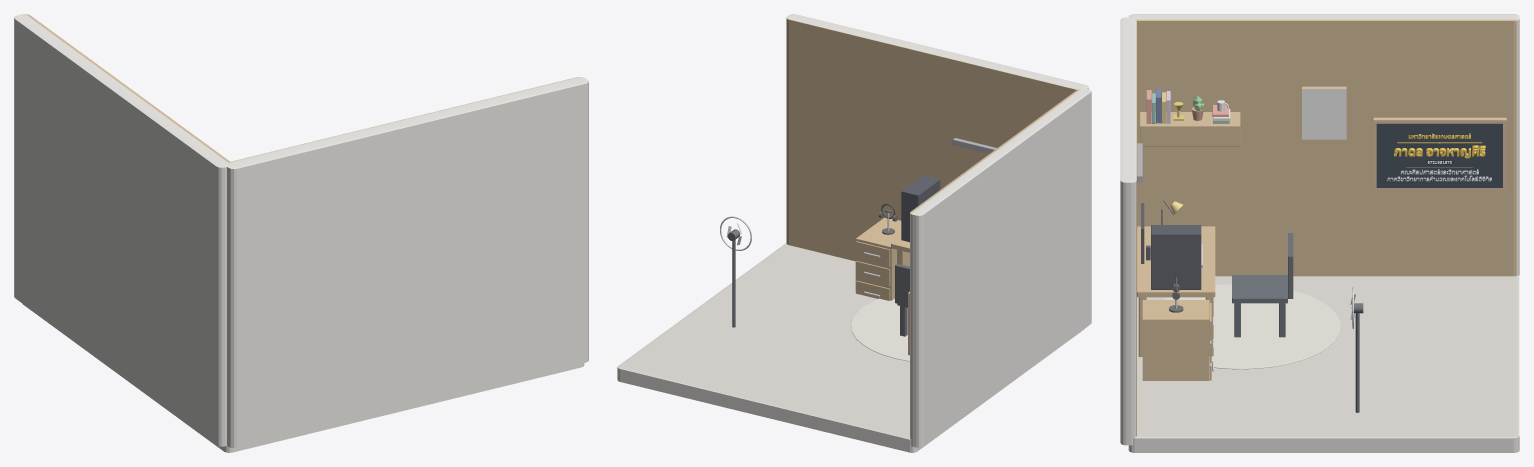
File: myport.glb
3 renders of one model, left to right at view 1: azimuth 30°, elevation 25°; view 2: azimuth 150°, elevation 25°; view 3: azimuth 270°, elevation 25°, orthographic. The views are drawn at different scales.
Parts seen in each view (by area): view 1: Room; view 2: Room, Cabinet, Room_Rug, Computer, Chair; view 3: Room, StudentInfo_3DText, Room_Rug, Cabinet, Computer, Shelf, Table, Chair, PictureFrame, SignBoard, Shelf_BooksStanding, Fan_Base.
Part boxes in pixels (left/top/right/bottom): Room: left=14, top=14, right=588, bottom=452; Room: left=617, top=14, right=1091, bottom=452; Cabinet: left=855, top=217, right=909, bottom=300; Room_Rug: left=851, top=298, right=909, bottom=361; Computer: left=901, top=175, right=940, bottom=242; Chair: left=895, top=264, right=909, bottom=336; Room: left=1120, top=14, right=1519, bottom=452; StudentInfo_3DText: left=1376, top=123, right=1502, bottom=187; Room_Rug: left=1162, top=284, right=1340, bottom=369; Cabinet: left=1142, top=300, right=1213, bottom=380; Computer: left=1151, top=225, right=1201, bottom=289; Shelf: left=1140, top=112, right=1240, bottom=146; Table: left=1137, top=226, right=1215, bottom=356; Chair: left=1232, top=233, right=1293, bottom=337; PictureFrame: left=1302, top=86, right=1346, bottom=139; SignBoard: left=1372, top=117, right=1506, bottom=190; Shelf_BooksStanding: left=1146, top=88, right=1170, bottom=123; Fan_Base: left=1355, top=313, right=1359, bottom=412.
Bounding box in the file's own units: 3.58 × 2.67 × 3.58.
